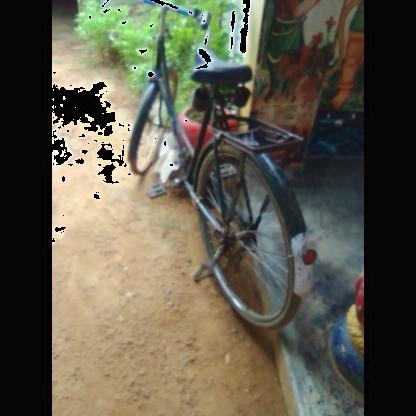Bicycle: (139, 0, 328, 339)
